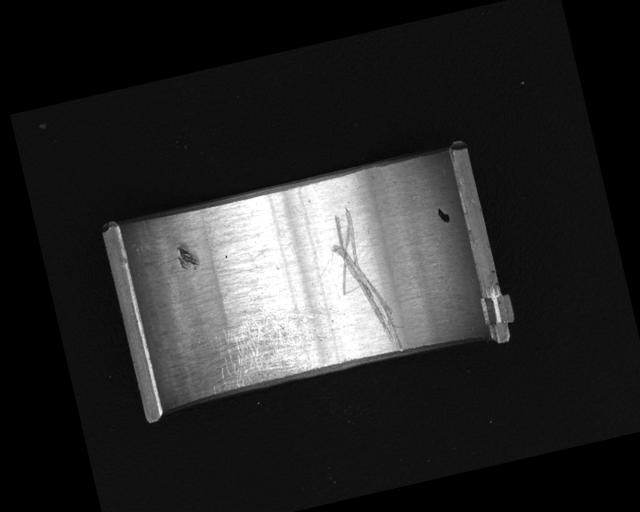blot: (435, 205, 452, 226)
bruise: (172, 240, 200, 274)
nick: (323, 201, 406, 362)
scratch: (199, 297, 343, 394)
